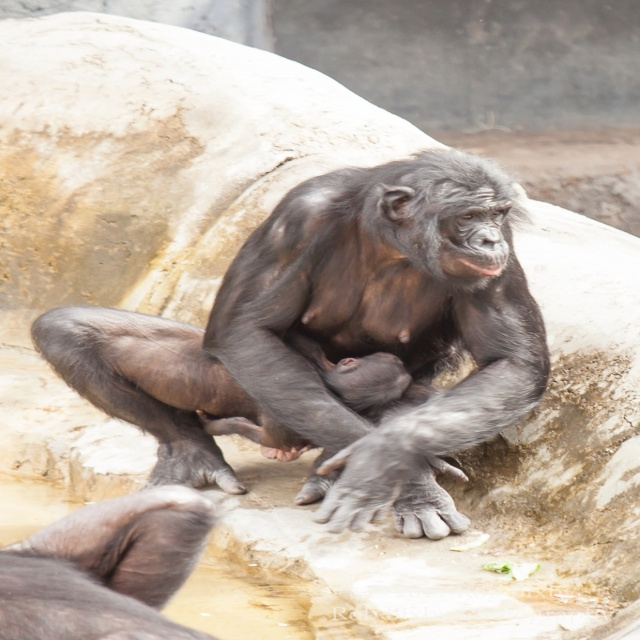Monkey: (53, 156, 478, 527), (0, 481, 221, 640)
